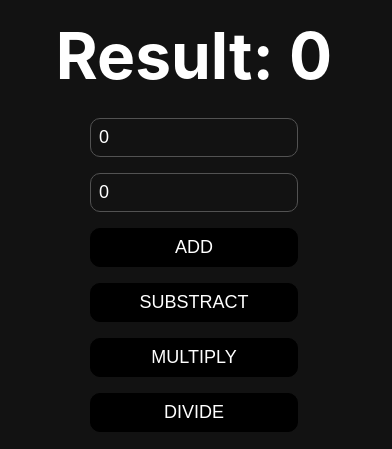
Test case: Calculator › method "multiply" really adds numbers into result constant
Replace the text in the number field with test id "number1" with "200". click: (194, 137)
box: x1=90 y1=118 x2=298 y2=156
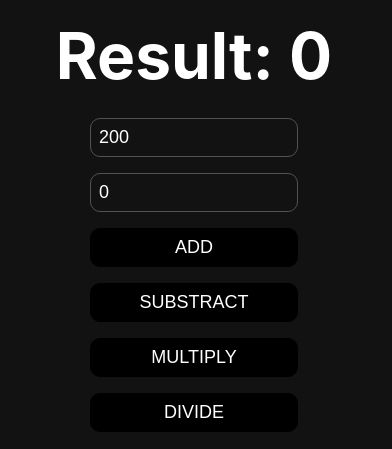
Replace the text in the number field with test id "number2" with "2". click: (194, 192)
box: x1=90 y1=172 x2=298 y2=212
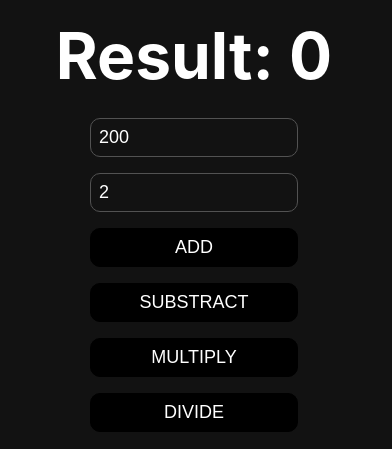
Click the button with test id "multiply". click: (194, 357)
box: x1=90 y1=338 x2=298 y2=376
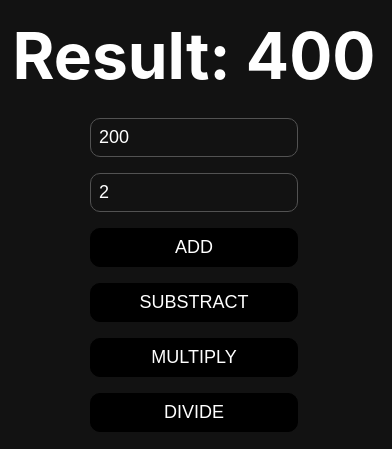
Check: the text with test id "result" shows "400", box x1=246 y1=16 x2=376 y2=94
